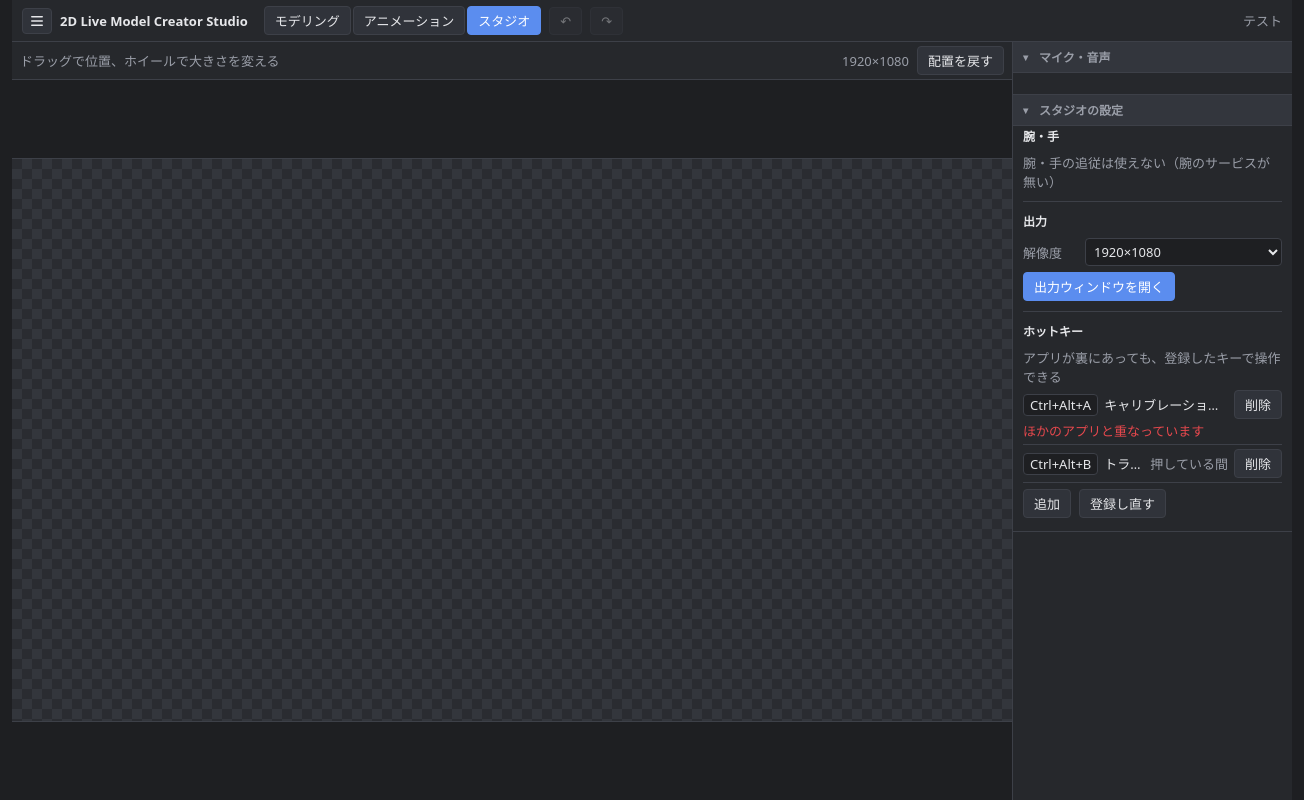
Test: ホットキーの割り当ての画面 › ほかのアプリと重なって登録できないときは「ほかのアプリと重なっています」と出す
(page scrolled)
Expected: the text "ほかのアプリと重なっています" is shown, [1023,422,1204,440]
Expected: the text "キャリブレーションのやり直し" is shown, [1104,395,1228,414]
Click the button "登録し直す" at {"x": 1122, "y": 504}, box [1079,489,1166,518]
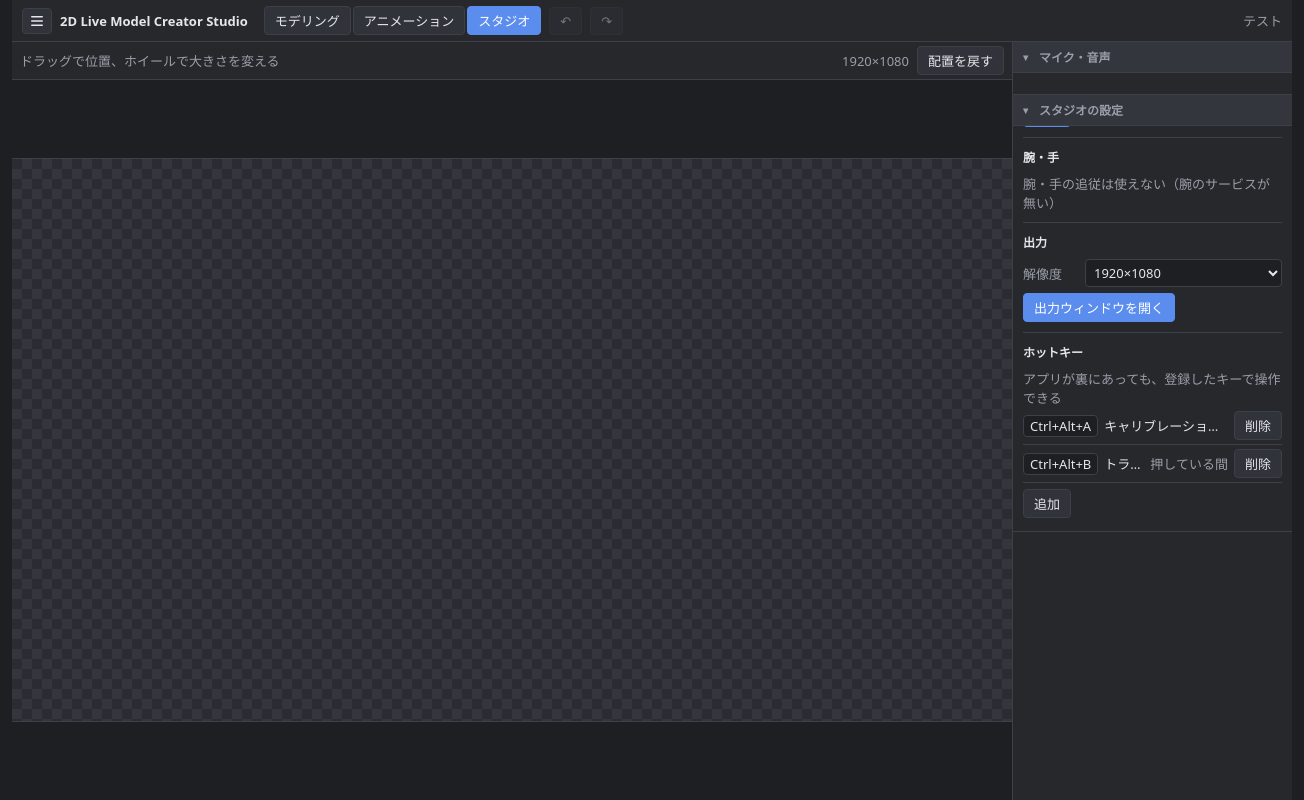
Expected: the text "ほかのアプリと重なっています" is gone
Expected: the button "登録し直す" is gone
